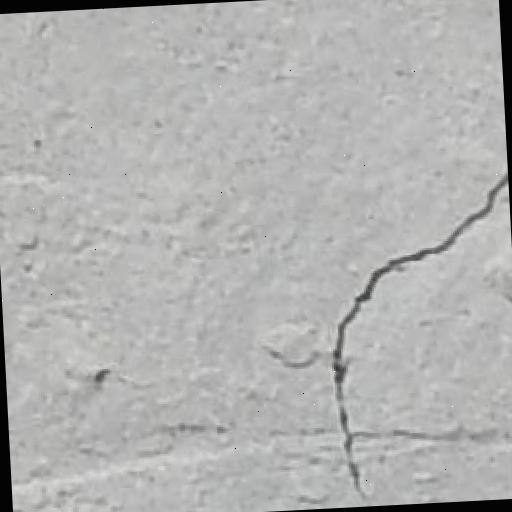spalling: (310, 170, 506, 500)
